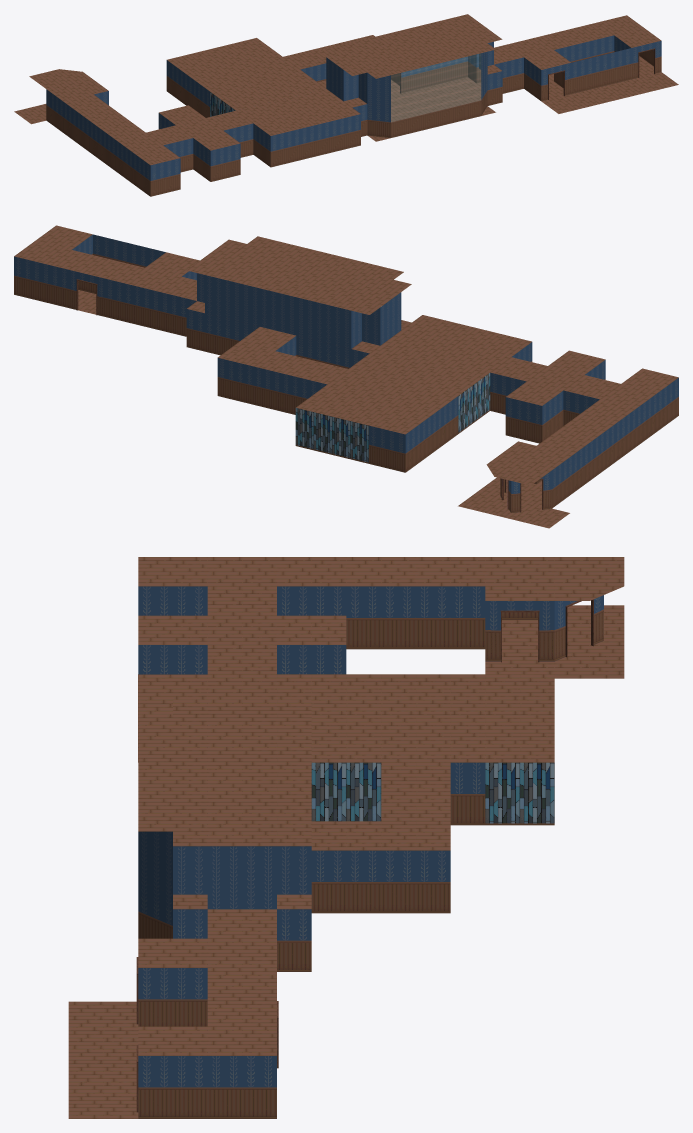
File: grandplayarea2 1.fbx
The picture shows the model from 3 angles, top to bottom: view 1: azimuth 30°, elevation 25°; view 2: azimuth 150°, elevation 25°; view 3: azimuth 270°, elevation 25°; orthographic projection. The views are drawn at different scales.
Parts seen in each view (by area): view 1: Grand Play Area 2; view 2: Grand Play Area 2; view 3: Grand Play Area 2.
Part boxes in pixels (x1,y1,x2,y2): Grand Play Area 2: (14, 14, 678, 196); Grand Play Area 2: (14, 225, 678, 528); Grand Play Area 2: (68, 557, 624, 1118).
Size of the model in its own units: 54.69 by 25 by 6.25.
Materials: 7 (7 with a texture image).
